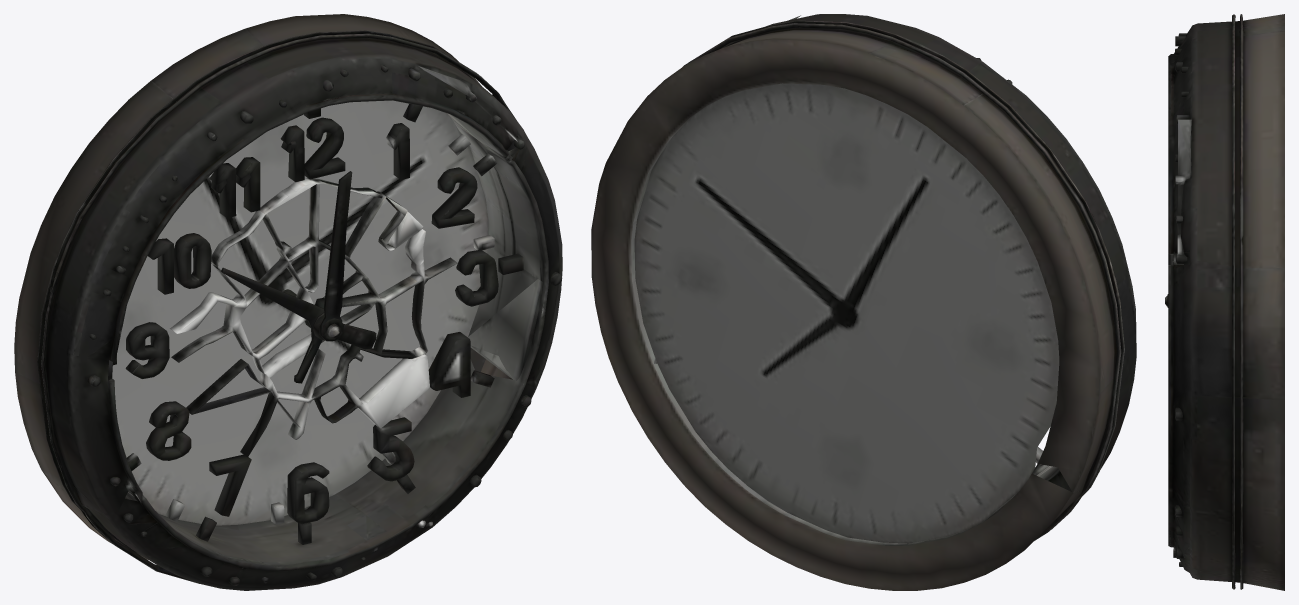
Rendered from prop_wall_clock.glb.
The picture shows the model from 3 angles, left to right: view 1: azimuth 30°, elevation 25°; view 2: azimuth 150°, elevation 25°; view 3: azimuth 270°, elevation 25°; orthographic projection. The views are drawn at different scales.
Parts seen in each view (by area): view 1: tripo_node_a74c00c4-f5d0-41a1-adf4-fae66c2f6f45; view 2: tripo_node_a74c00c4-f5d0-41a1-adf4-fae66c2f6f45; view 3: tripo_node_a74c00c4-f5d0-41a1-adf4-fae66c2f6f45.
Boxes of the visible parts, box(x1,y1,x2,y2) form: tripo_node_a74c00c4-f5d0-41a1-adf4-fae66c2f6f45: box(14, 14, 562, 590); tripo_node_a74c00c4-f5d0-41a1-adf4-fae66c2f6f45: box(591, 14, 1136, 590); tripo_node_a74c00c4-f5d0-41a1-adf4-fae66c2f6f45: box(1165, 14, 1284, 590).
Size of the model in its own units: 0.3162 by 0.32 by 0.0664.
Materials: 1 (1 with a texture image).
